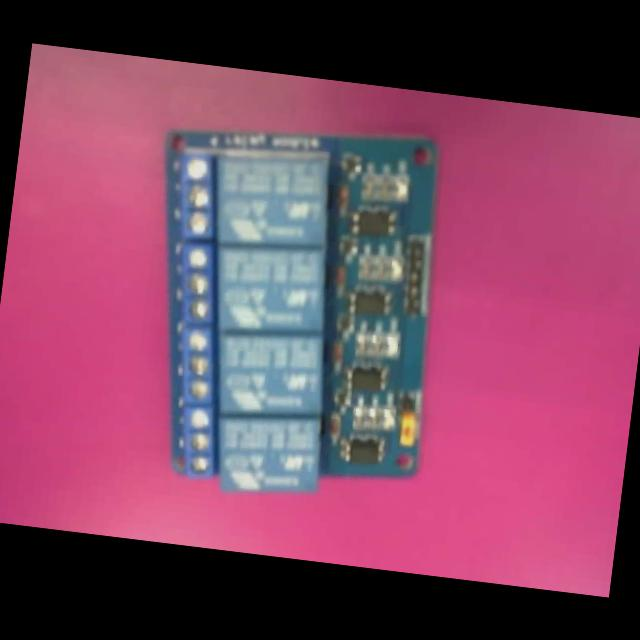relay_module: (124, 107, 458, 514)
